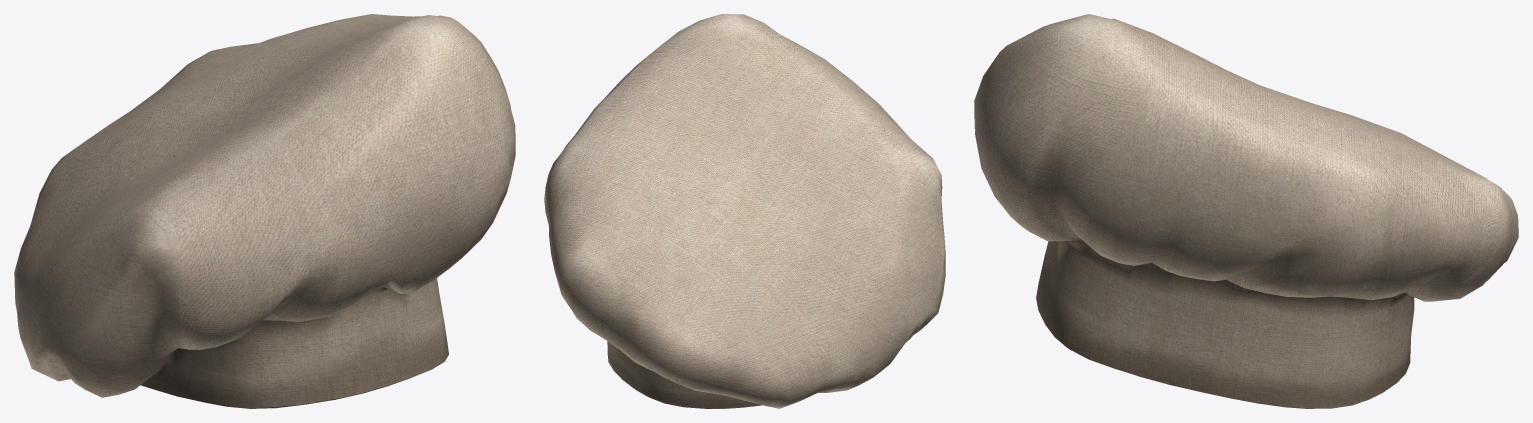
3 renders of one model, left to right at view 1: azimuth 30°, elevation 25°; view 2: azimuth 150°, elevation 25°; view 3: azimuth 270°, elevation 25°, orthographic. The views are drawn at different scales.
Parts seen in each view (by area): view 1: SM_Chef_Hat_01_LOD0; view 2: SM_Chef_Hat_01_LOD0; view 3: SM_Chef_Hat_01_LOD0.
Part boxes in pixels (<box>): SM_Chef_Hat_01_LOD0: <box>14,14,515,408</box>; SM_Chef_Hat_01_LOD0: <box>544,14,945,408</box>; SM_Chef_Hat_01_LOD0: <box>974,14,1518,408</box>.
Bounding box in the file's own units: 0.2992 × 0.2534 × 0.3285.
Materials: 1 (1 with a texture image).
